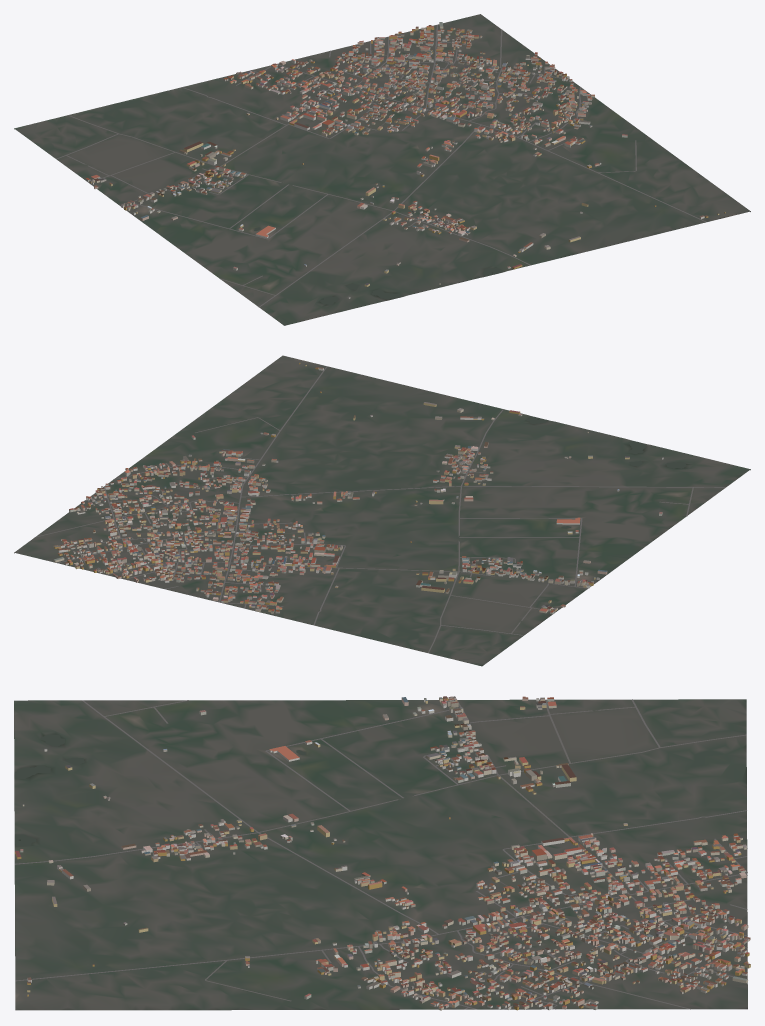
The picture shows the model from 3 angles, top to bottom: view 1: azimuth 30°, elevation 25°; view 2: azimuth 150°, elevation 25°; view 3: azimuth 270°, elevation 25°; orthographic projection. The views are drawn at different scales.
Visible parts, largest first — view 1: ground, buildings, roads; view 2: ground, buildings, roads; view 3: ground, buildings, roads, water.
Part boxes in pixels (<box>): ground: <box>14,14,750,325</box>; buildings: <box>85,22,725,298</box>; roads: <box>56,24,706,307</box>; ground: <box>14,355,750,666</box>; buildings: <box>53,362,663,614</box>; roads: <box>35,366,725,653</box>; ground: <box>14,699,747,1010</box>; buildings: <box>14,696,750,1010</box>; roads: <box>15,699,747,1009</box>; water: <box>15,734,306,845</box>.
Size of the model in its own units: 1412 by 16.26 by 1410.
